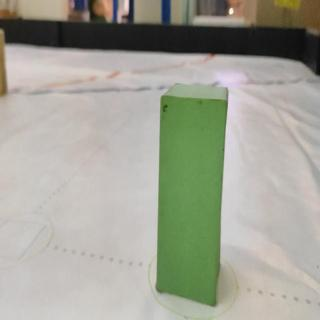greenbox: (153, 81, 229, 305)
